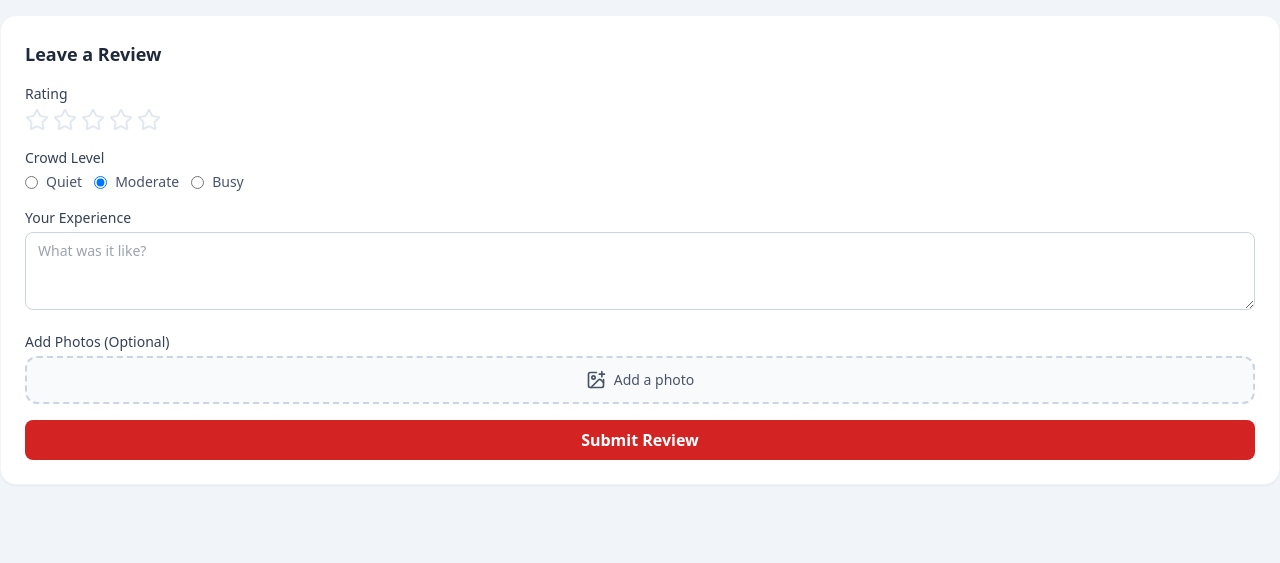
Test: ReviewForm › should show an error if submitted without a rating
This screenshot has width=1280, height=563.
Click the button "Submit Review". click: (640, 440)
box: [25,420,1255,460]
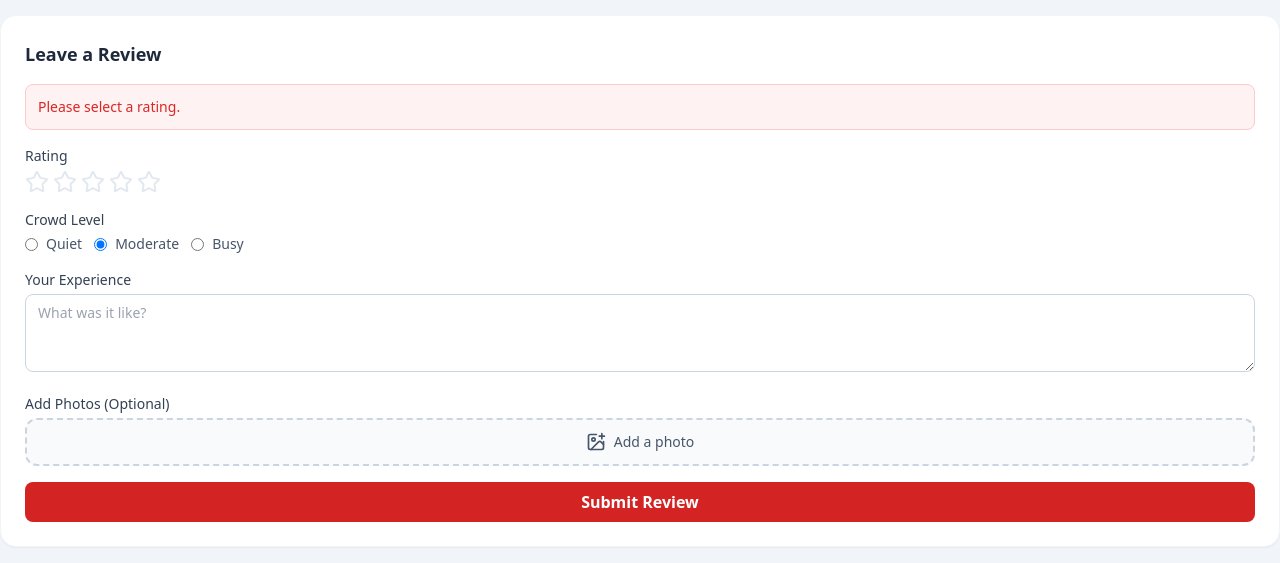
expect the text "Please select a rating." is shown: met, box [25,84,1255,130]
